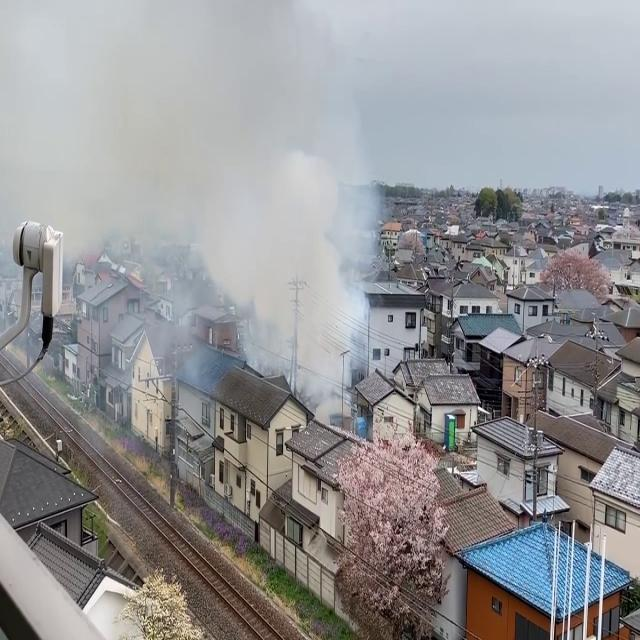Smoke: (72, 0, 390, 386)
